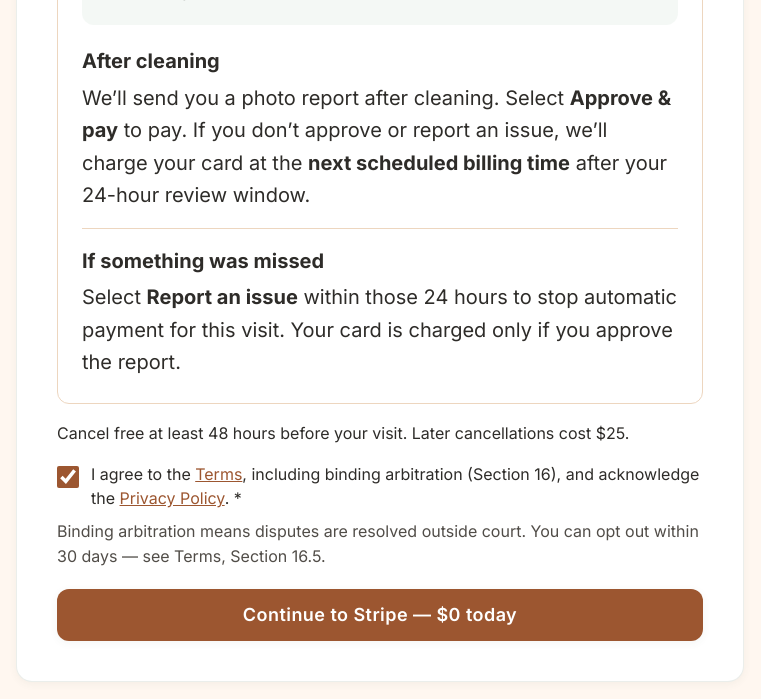
Test: gives the owner contact when an earlier duplicate confirmation could not be sent
The image size is (761, 699).
Earlier steps of the test are not shown.
(page scrolled)
Step 1. Click the button "Continue to Stripe — $0 today" → (380,615), box [57, 589, 703, 641]
(page scrolled)
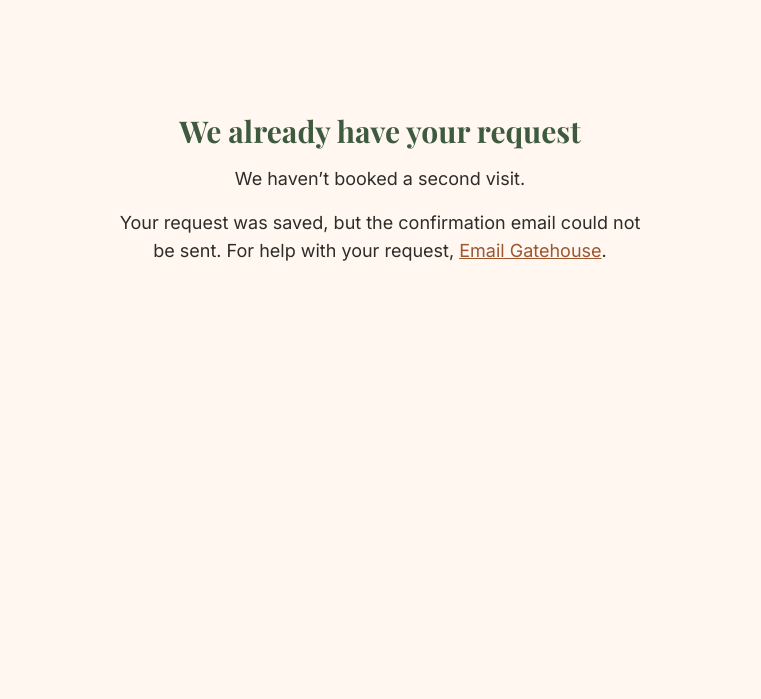
Expected: the heading "We already have your request" is shown, [179, 111, 581, 151]
